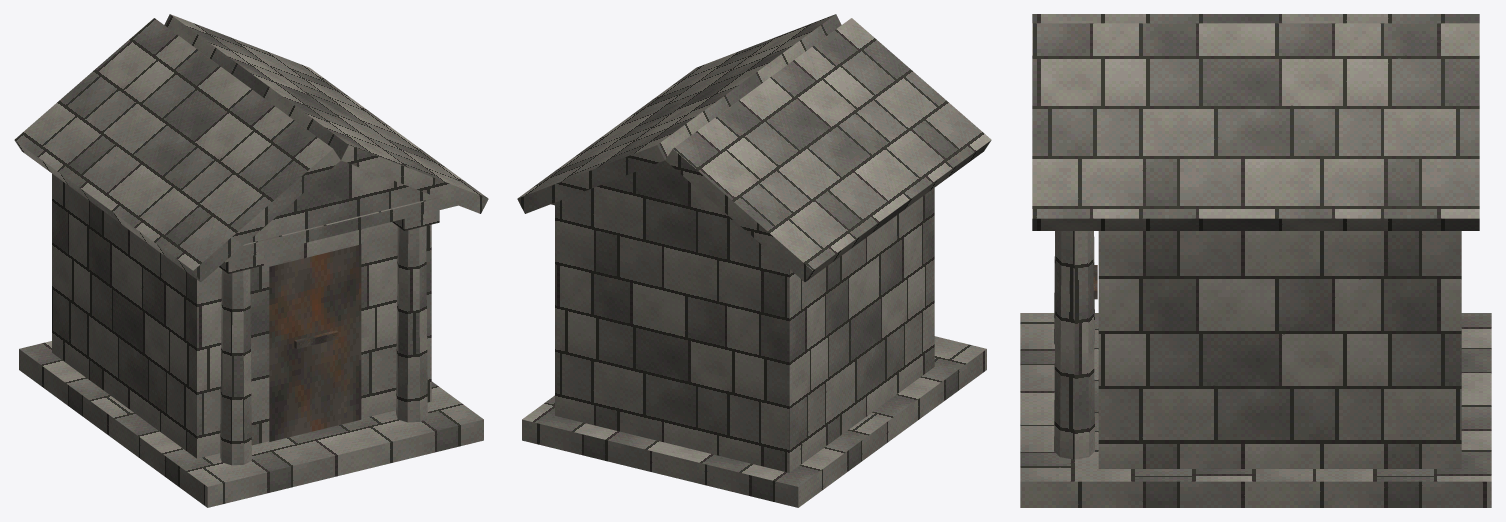
The model's file is cripta.obj.
The picture shows the model from 3 angles, left to right: view 1: azimuth 30°, elevation 25°; view 2: azimuth 150°, elevation 25°; view 3: azimuth 270°, elevation 25°; orthographic projection. The views are drawn at different scales.
Parts seen in each view (by area): view 1: cripta; view 2: cripta; view 3: cripta.
Boxes of the visible parts, x1,y1,x2,y2 form: cripta: (14,14,488,507); cripta: (517,14,991,507); cripta: (1020,14,1491,507).
Size of the model in its own units: 3.53 by 3.69 by 3.9.
Materials: 2 (2 with a texture image).
